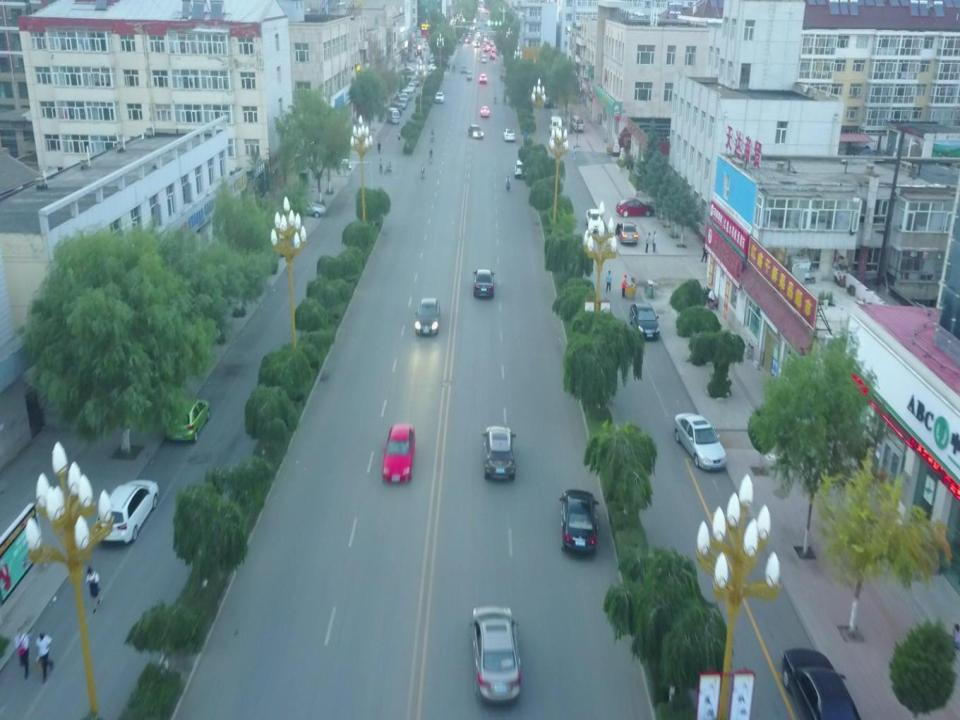car: (780, 646, 862, 720), (469, 604, 523, 707), (92, 475, 160, 545), (674, 411, 726, 472), (559, 487, 600, 558), (380, 422, 418, 485), (162, 396, 211, 444), (482, 424, 518, 484), (628, 301, 660, 342), (414, 296, 441, 340), (471, 268, 495, 301), (615, 197, 654, 217), (292, 198, 326, 218), (614, 221, 638, 246), (584, 207, 603, 233), (468, 124, 485, 140), (514, 159, 528, 178), (389, 102, 402, 116), (503, 127, 515, 142), (543, 96, 555, 108), (399, 66, 415, 75), (480, 105, 490, 118), (427, 64, 441, 72), (434, 92, 444, 103), (406, 82, 416, 93), (399, 93, 408, 105), (398, 99, 407, 110), (479, 72, 487, 84), (412, 76, 420, 87), (460, 64, 466, 72)
van: (548, 115, 562, 134), (571, 114, 584, 132), (386, 109, 400, 125), (397, 88, 413, 102)
